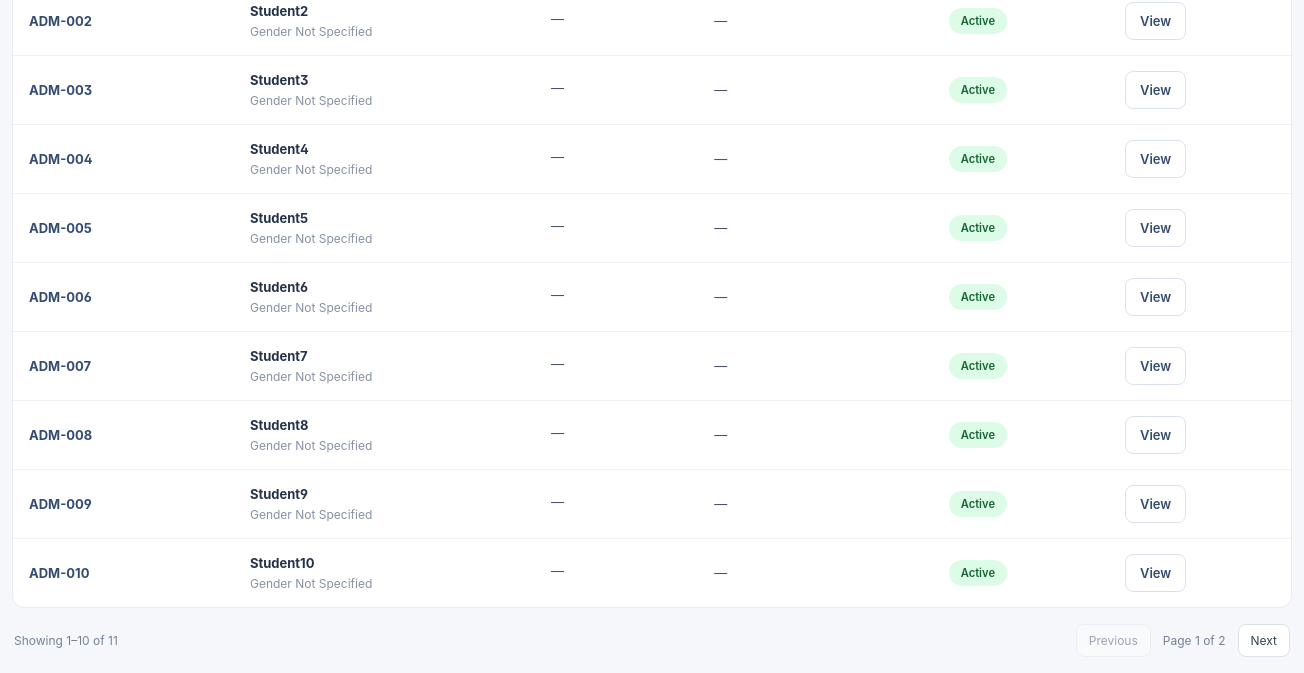
Test: StudentDirectory › returns to the previous page when Previous is clicked
The image size is (1304, 673).
(page scrolled)
Check: the text "Page 1 of 2" is shown, box left=1163, top=633, right=1226, bottom=648
Click the button "Next" at x=1264, y=640, box left=1238, top=624, right=1290, bottom=657
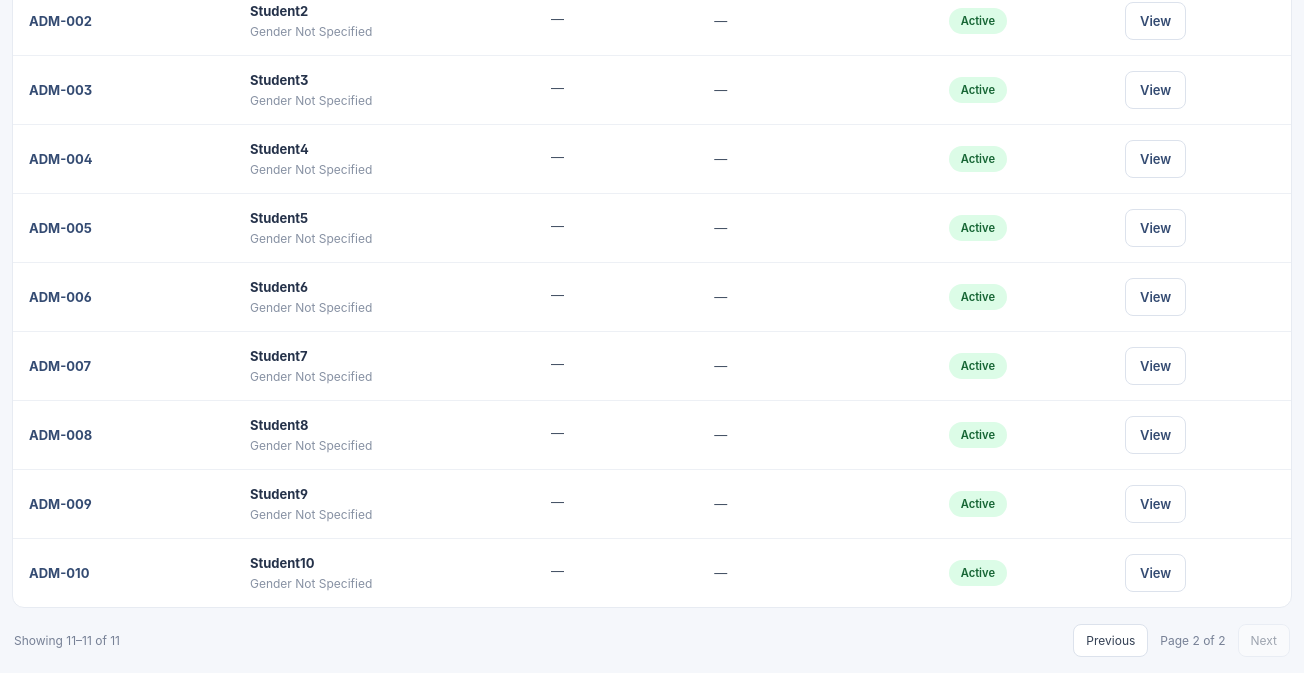
Check: the text "Page 2 of 2" is shown, box left=1160, top=633, right=1226, bottom=648
Click the button "Previous" at x=1111, y=640, box left=1073, top=624, right=1148, bottom=657
(page scrolled)
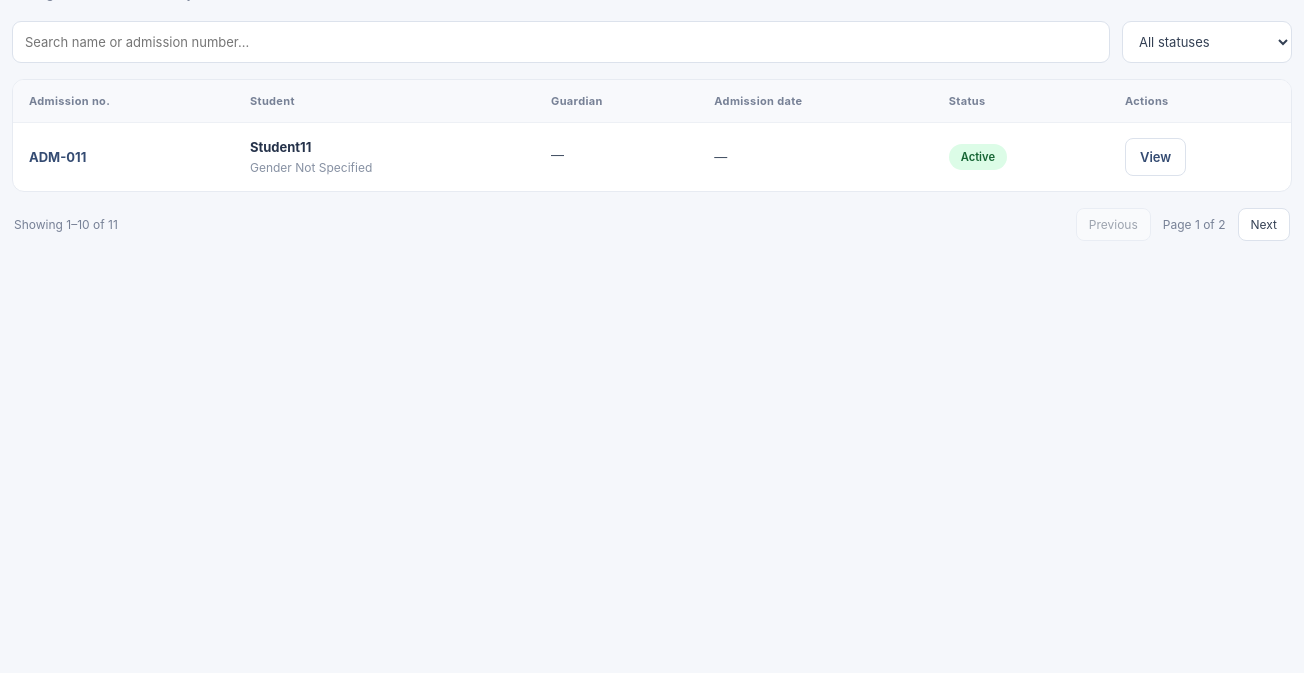
Check: the text "Page 1 of 2" is shown, box left=1163, top=217, right=1226, bottom=232
Check: the text "Showing 1–10 of 11" is shown, box left=14, top=217, right=118, bottom=232
